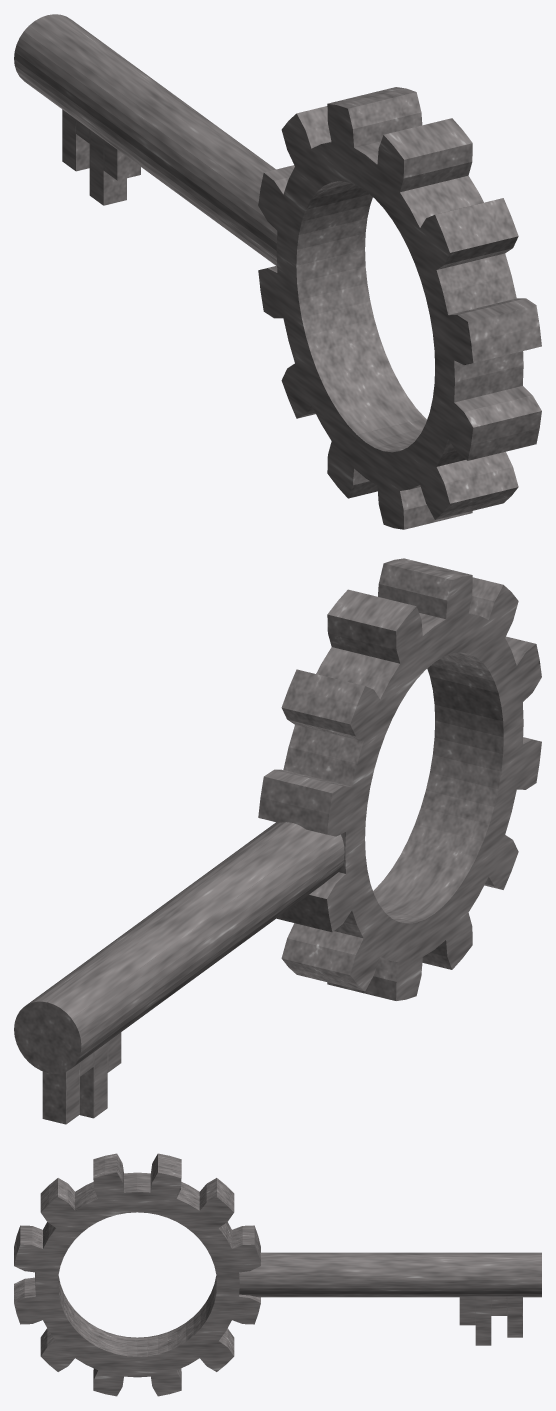
The model's file is box_key.fbx.
3 views of the same model, one above another, from view 1: azimuth 30°, elevation 25°; view 2: azimuth 150°, elevation 25°; view 3: azimuth 270°, elevation 25° (orthographic). The views are drawn at different scales.
Visible parts, largest first — view 1: Key for Lock; view 2: Key for Lock; view 3: Key for Lock.
Boxes of the visible parts, bbox=[...] form: Key for Lock: bbox=[14, 14, 541, 529]; Key for Lock: bbox=[14, 558, 541, 1124]; Key for Lock: bbox=[14, 1153, 541, 1396].
Bounding box in the file's own units: 6.73 × 36.51 × 78.06.
Materials: 1 (1 with a texture image).
